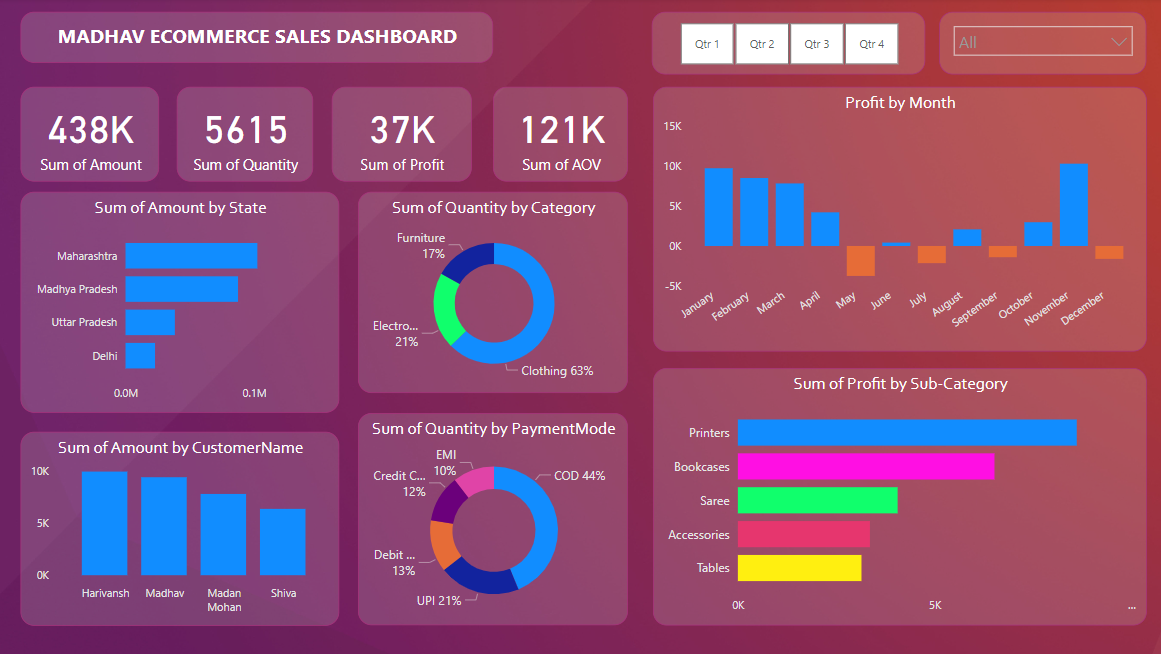

This screenshot's page, from the dashboard's own definition file:
{"tool":"powerbi","page":{"name":"Page 1","canvas":[1280,720],"ordinal":0},"visuals":[{"type":"textbox","box":[24.7,15.1,518.3,56.2],"z":0},{"type":"columnChart","title":"Profit by Month","fields":{"Category":["Orders.Order Date.Variation.Date Hierarchy.Month"],"Y":["Sum(Details.Profit)"]},"box":[718.4,97.3,541.6,290.7],"z":1000},{"type":"barChart","fields":{"Category":["Details.Sub-Category"],"Y":["Sum(Details.Profit)"]},"box":[718.4,405.8,541.6,282.4],"z":2000},{"type":"donutChart","fields":{"Y":["Sum(Details.Quantity)"],"Category":["Details.PaymentMode"]},"box":[394.9,455.2,296.1,233.1],"z":3000},{"type":"donutChart","fields":{"Category":["Details.Category"],"Y":["Sum(Details.Quantity)"]},"box":[394.9,212.5,296.1,220.7],"z":4000},{"type":"card","fields":{"Values":["Sum(Details.Amount)"]},"box":[24.7,97.3,152.2,104.2],"z":5000},{"type":"card","fields":{"Values":["Sum(Details.Quantity)"]},"box":[196.1,97.3,149.4,104.2],"z":6000},{"type":"card","fields":{"Values":["Sum(Details.Profit)"]},"box":[366.1,97.3,153.6,104.2],"z":7000},{"type":"card","fields":{"Values":["Sum(Details.AOV)"]},"box":[542.9,97.3,148.1,104.2],"z":8000},{"type":"barChart","fields":{"Y":["Sum(Details.Amount)"],"Category":["Orders.State"]},"box":[24.7,212.5,349.6,242.7],"z":9000},{"type":"columnChart","fields":{"Category":["Orders.CustomerName"],"Y":["Sum(Details.Amount)"]},"box":[24.7,475.8,349.6,212.5],"z":10000},{"type":"slicer","fields":{"Values":["Orders.Order Date.Variation.Date Hierarchy.Quarter"]},"box":[717.1,15.1,300.3,68.6],"z":11000},{"type":"slicer","fields":{"Values":["Orders.State"]},"box":[1032.4,15.1,227.6,68.6],"z":12000}]}

Visuals, with their boxes in screenshot pixels (x1, y1, x2, y2), scaled from the page's 1280x720 canvas onto the 1161x654 screenshot:
textbox: (left=22, top=14, right=493, bottom=65)
"Profit by Month" columnChart: (left=652, top=88, right=1143, bottom=352)
barChart - Details.Sub-Category x Sum(Details.Profit): (left=652, top=369, right=1143, bottom=625)
donutChart - Sum(Details.Quantity) x Details.PaymentMode: (left=358, top=413, right=627, bottom=625)
donutChart - Details.Category x Sum(Details.Quantity): (left=358, top=193, right=627, bottom=393)
card - Sum(Details.Amount): (left=22, top=88, right=160, bottom=183)
card - Sum(Details.Quantity): (left=178, top=88, right=313, bottom=183)
card - Sum(Details.Profit): (left=332, top=88, right=471, bottom=183)
card - Sum(Details.AOV): (left=492, top=88, right=627, bottom=183)
barChart - Sum(Details.Amount) x Orders.State: (left=22, top=193, right=340, bottom=413)
columnChart - Orders.CustomerName x Sum(Details.Amount): (left=22, top=432, right=340, bottom=625)
slicer - Orders.Order Date.Variation.Date Hierarchy.Quarter: (left=650, top=14, right=923, bottom=76)
slicer - Orders.State: (left=936, top=14, right=1143, bottom=76)
